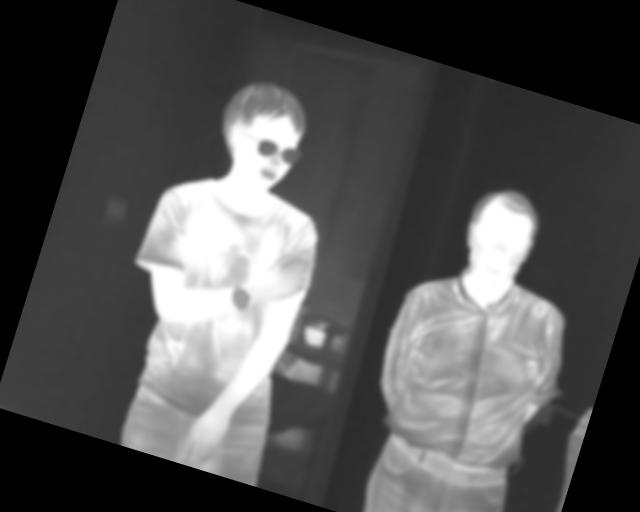face: (205, 70, 318, 199), (452, 178, 550, 298)
